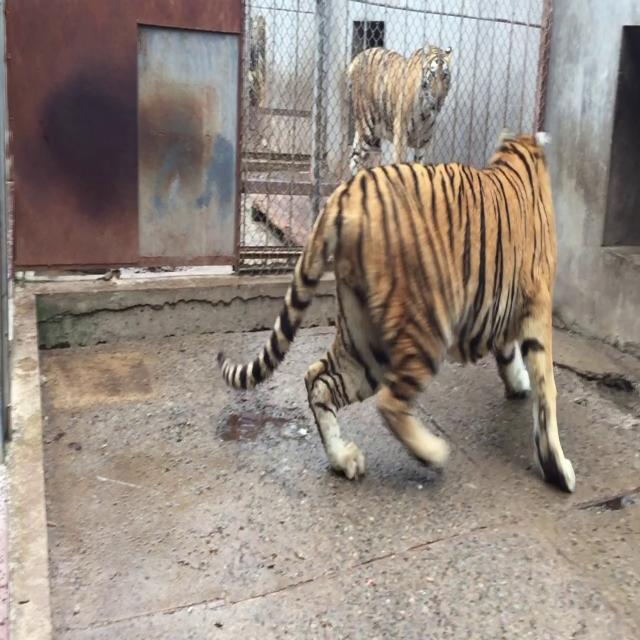Tiger: (184, 79, 615, 591), (344, 44, 462, 168)
